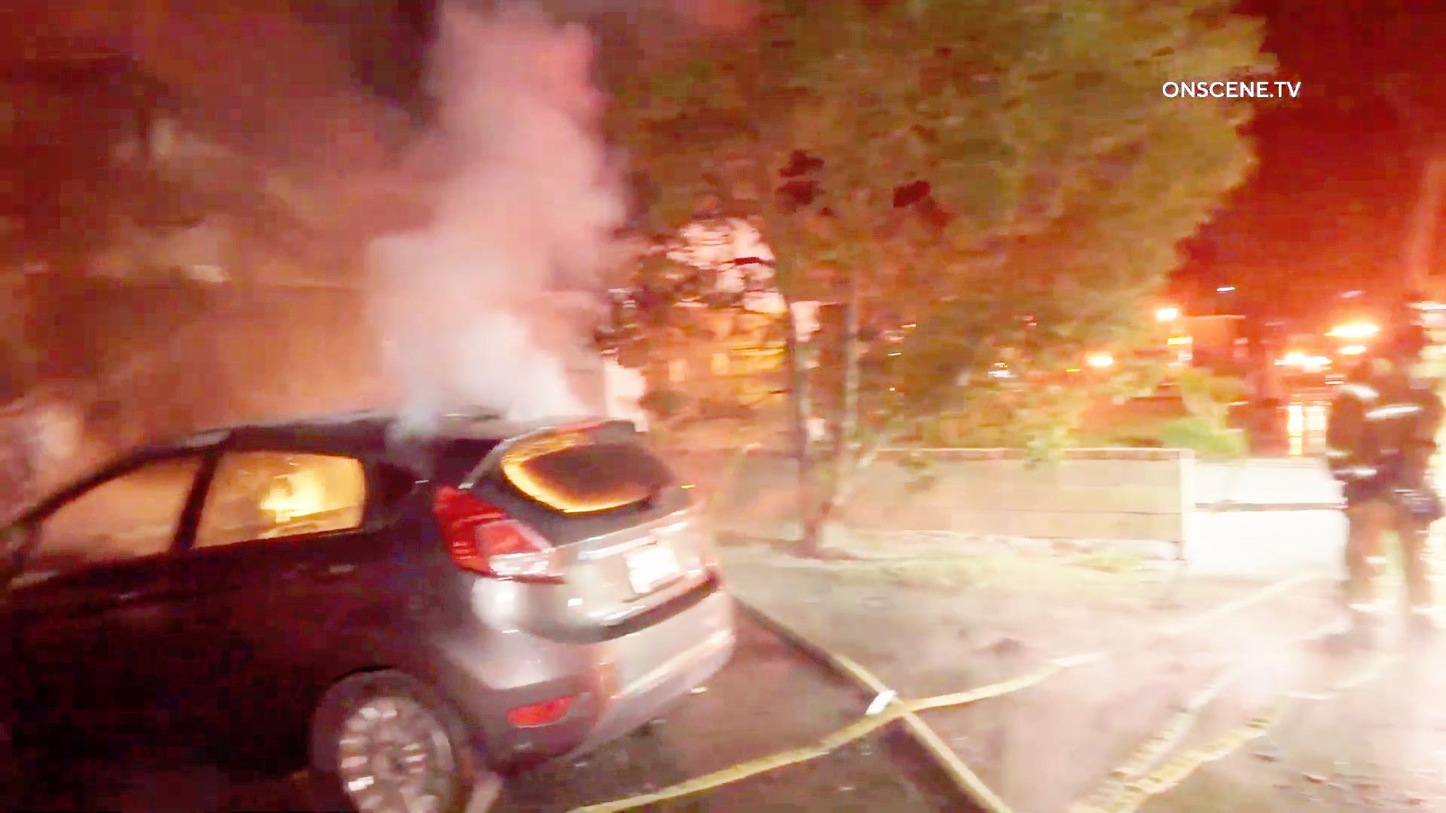smoke: (401, 23, 603, 401)
